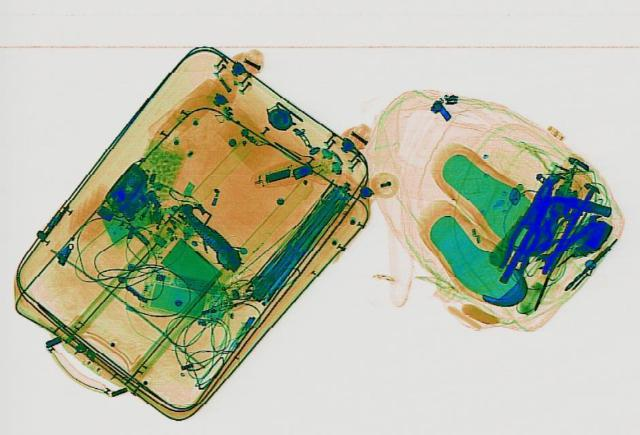Pliers: (486, 177, 562, 284)
